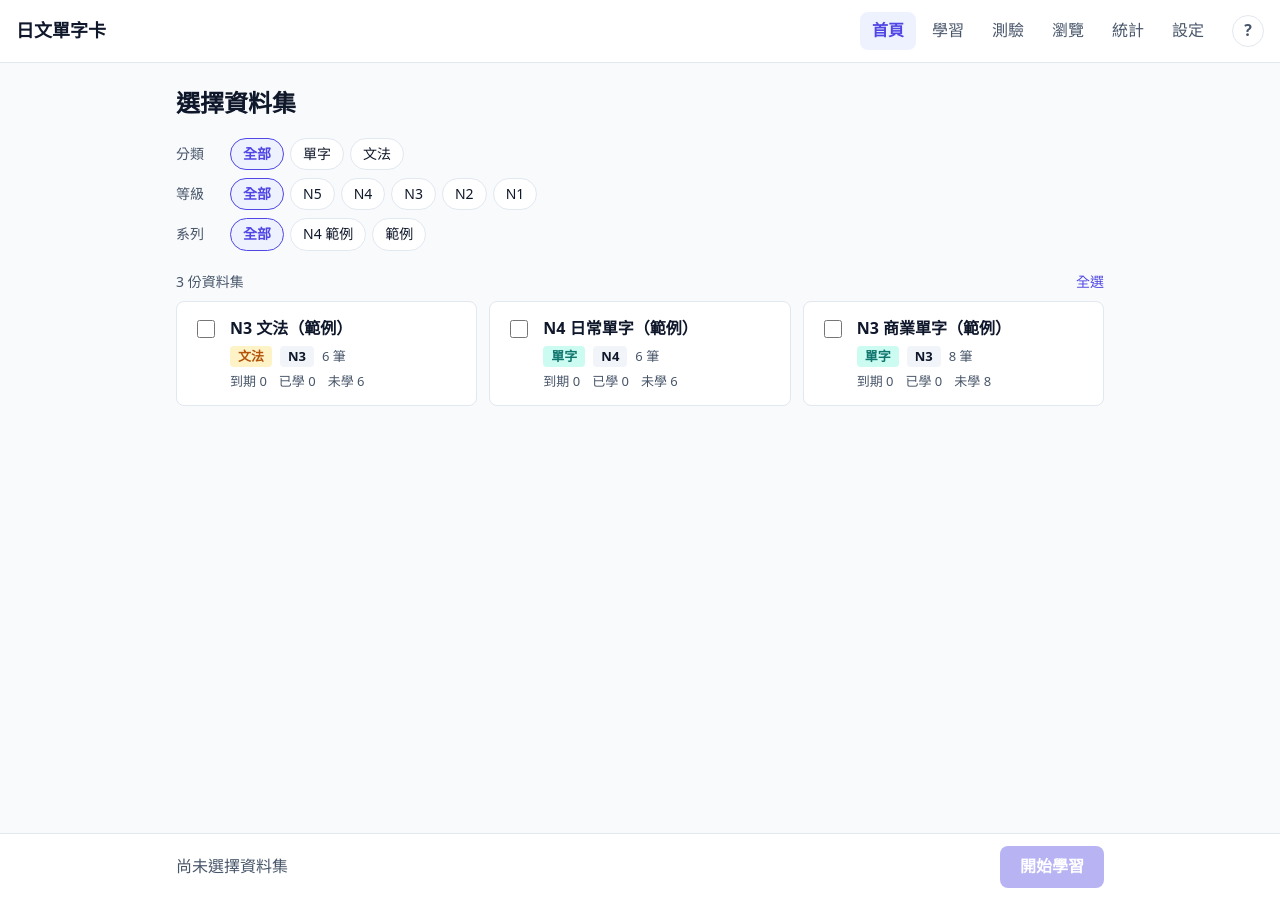
Test: App › filters datasets and tracks the selection
What coordinates should you click on to do the following:
click the radio button with class "chip" showing "文法"
I would click on:
 (377, 154)
Its box is [350,138,404,170].
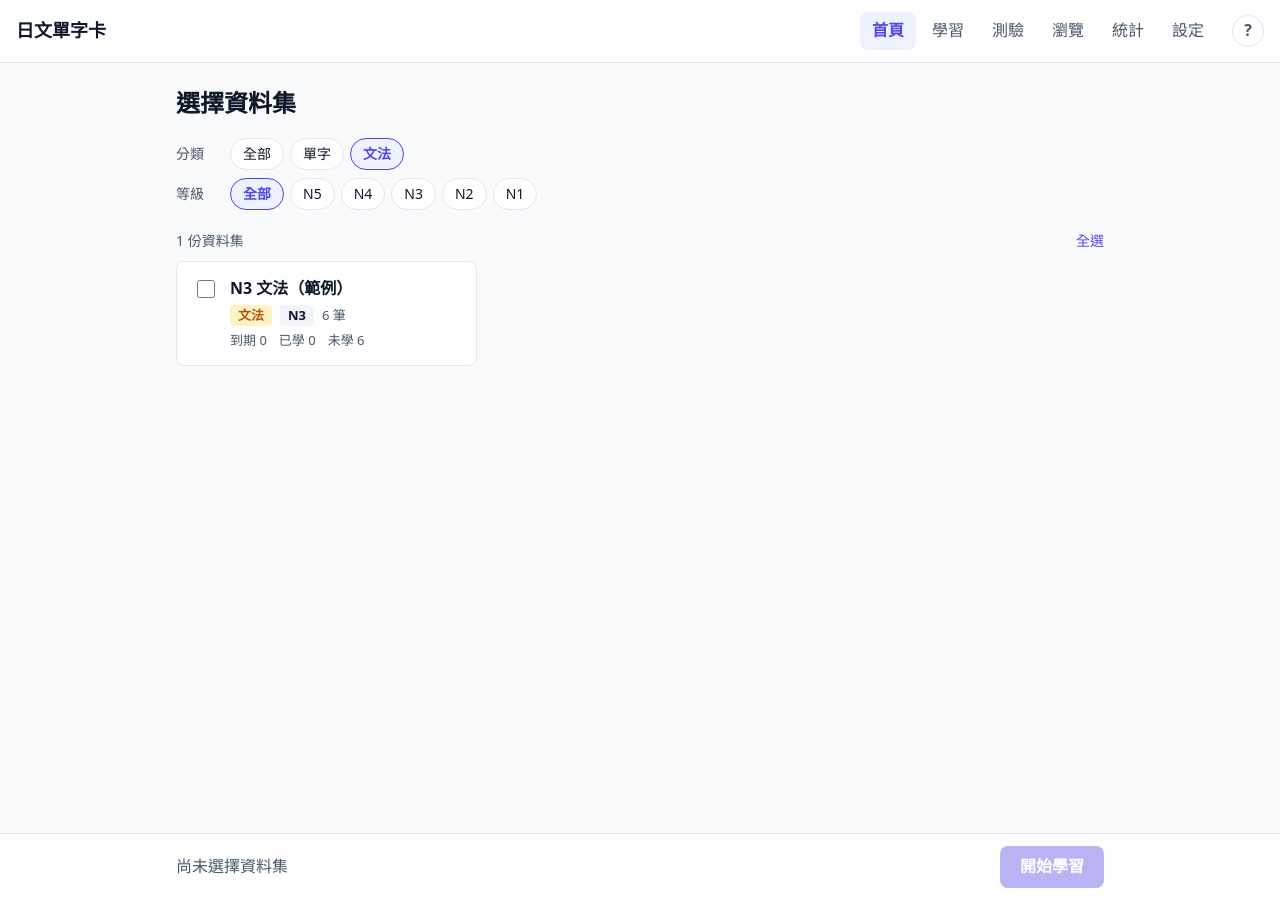
Expected: the number of labels with class "dataset-card" is 1, [176,261,477,366]
What coordinates should you click on to do the following:
click the checkbox labelled "N3 文法（範例） 文法 N3 6 筆 到期 0 已學 0 未學 6"
I would click on:
 (206, 289)
Its box is [197,280,215,298].
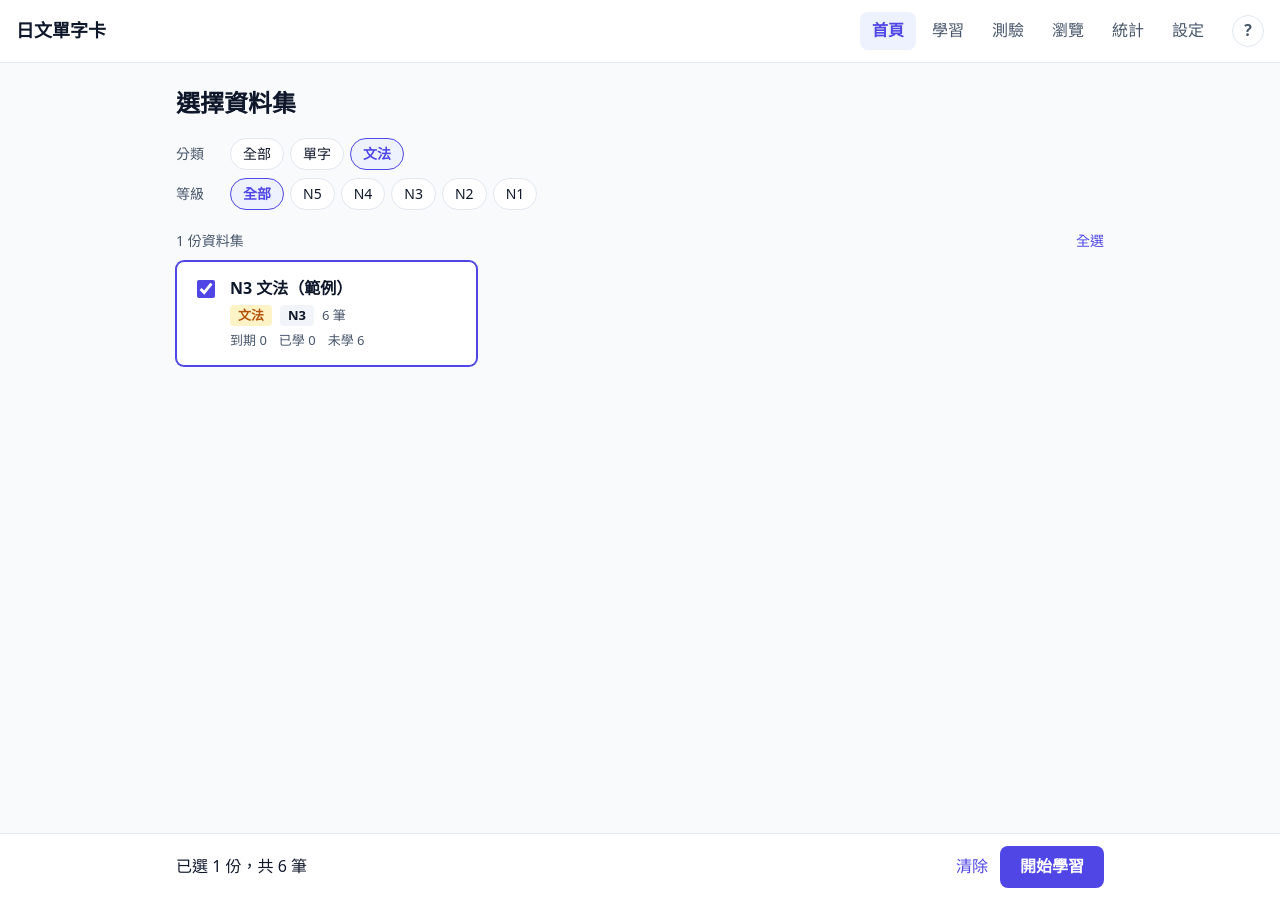
Expected: the element with class "selection-bar" shows "已選 1 份，共 6 筆", [176,855,307,877]
What coordinates should you click on to do the following:
click the radio button with class "chip" showing "N5"
I would click on:
 (312, 194)
Its box is [290,178,335,210].
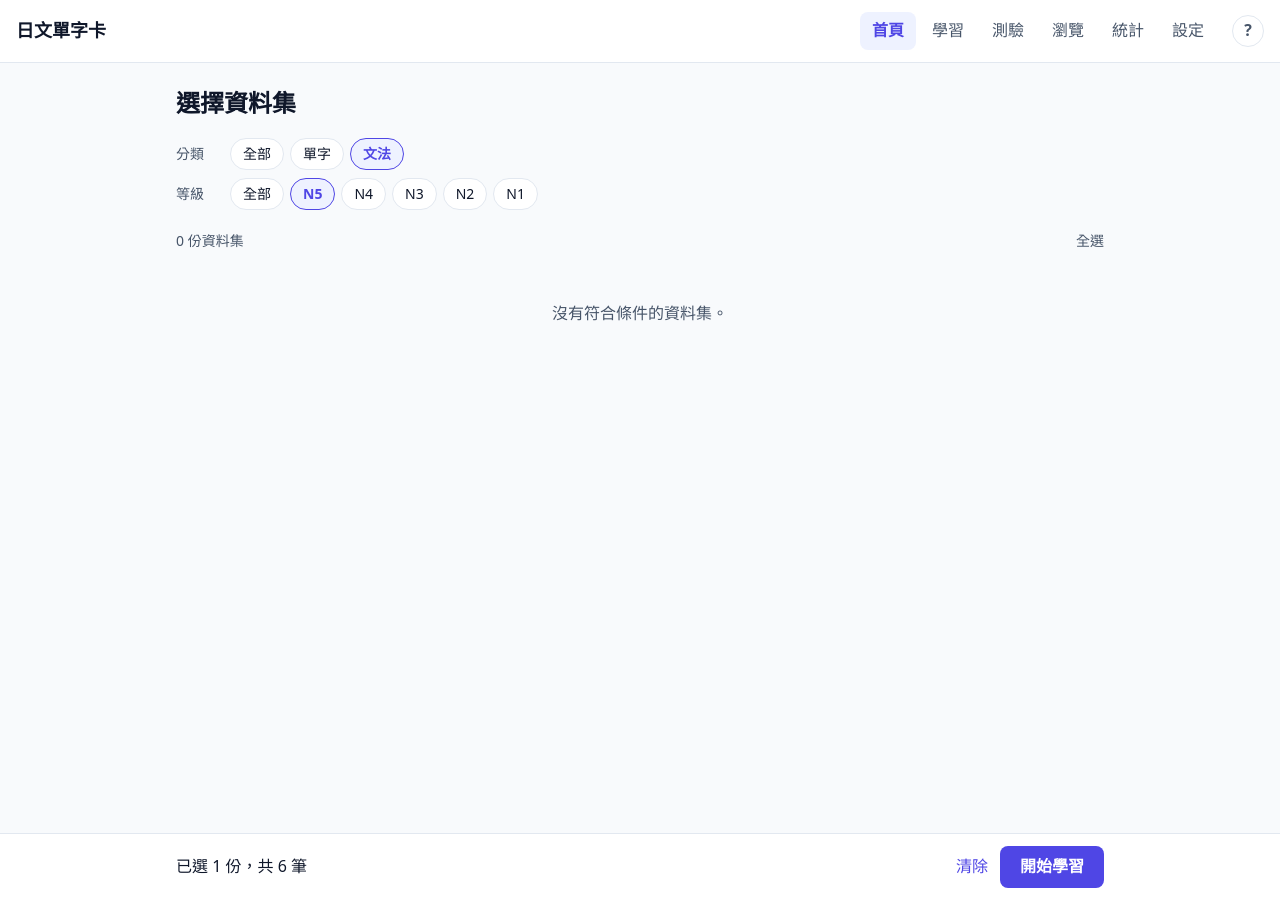
Expected: the text "沒有符合條件的資料集。" is shown, [552,302,728,324]
